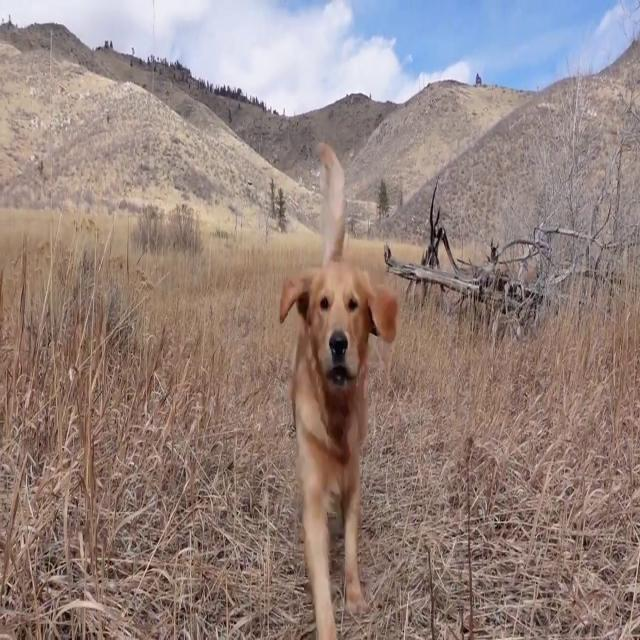Dog: (279, 141, 399, 640)
